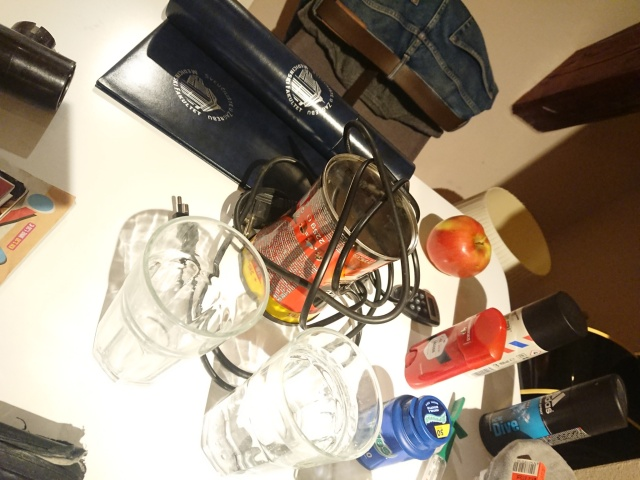Nescafe Classic 225g: (235, 150, 422, 330)
